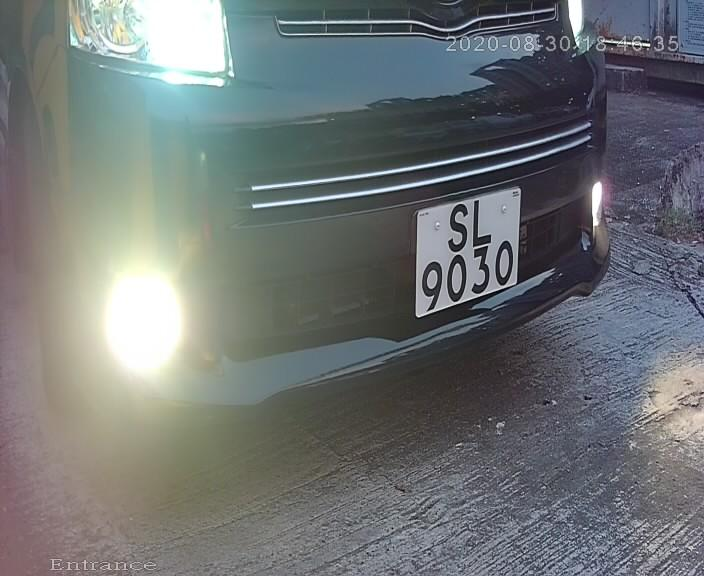License Plate: (397, 181, 529, 325)
